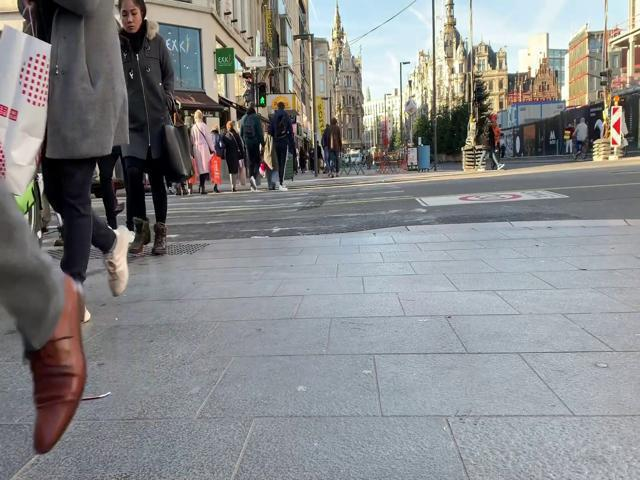shoe: (33, 275, 87, 453), (103, 225, 130, 296), (152, 224, 167, 255)
